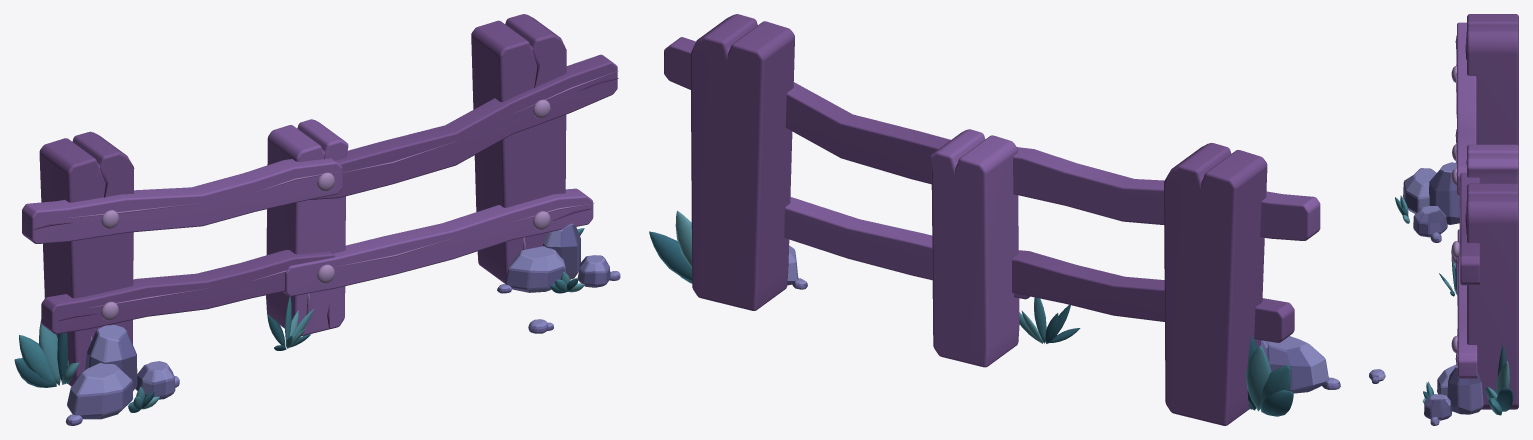
Rendered from fence_set_no_pumpkin.glb.
3 renders of one model, left to right at view 1: azimuth 30°, elevation 25°; view 2: azimuth 150°, elevation 25°; view 3: azimuth 270°, elevation 25°, orthographic. The views are drawn at different scales.
Parts seen in each view (by area): view 1: Hewn_Post_3.001, Upper_Rail_Left.001, Upper_Rail_Right.001, Hewn_Post_1.001, Lower_Rail_Right.001, Lower_Rail_Left.001, Hewn_Post_2.001, Front_Faceted_Boulder.001, Front_Faceted_Boulder.002, Rear_Standing_Slate.001, Rear_Standing_Slate.002, Right_Low_Boulder.001 (+3 smaller); view 2: Hewn_Post_3.001, Hewn_Post_1.001, Hewn_Post_2.001, Upper_Rail_Left.001, Upper_Rail_Right.001, Lower_Rail_Left.001, Lower_Rail_Right.001, Front_Faceted_Boulder.001, Right_Fence_Foliage_Leaf_6, Left_Fence_Foliage_Leaf_3, Left_Fence_Foliage_Leaf_2, Left_Fence_Foliage_Leaf_1 (+1 smaller); view 3: Hewn_Post_3.001, Hewn_Post_1.001, Upper_Rail_Left.001, Hewn_Post_2.001, Lower_Rail_Right.001, Upper_Rail_Right.001, Rear_Standing_Slate.001, Rear_Standing_Slate.002, Front_Faceted_Boulder.001, Right_Low_Boulder.001, Right_Low_Boulder.002, Front_Faceted_Boulder.002 (+3 smaller).
Part boxes in pixels (bbox=[...]): Hewn_Post_3.001: bbox=[471, 14, 566, 283]; Upper_Rail_Left.001: bbox=[22, 158, 342, 243]; Upper_Rail_Right.001: bbox=[310, 54, 617, 199]; Hewn_Post_1.001: bbox=[39, 131, 134, 386]; Lower_Rail_Right.001: bbox=[283, 188, 593, 296]; Lower_Rail_Left.001: bbox=[41, 250, 335, 334]; Hewn_Post_2.001: bbox=[266, 119, 348, 336]; Front_Faceted_Boulder.001: bbox=[67, 362, 132, 419]; Front_Faceted_Boulder.002: bbox=[505, 246, 565, 292]; Rear_Standing_Slate.001: bbox=[85, 325, 137, 390]; Rear_Standing_Slate.002: bbox=[543, 223, 580, 279]; Right_Low_Boulder.001: bbox=[135, 361, 175, 399]; Hewn_Post_3.001: bbox=[690, 14, 794, 310]; Hewn_Post_1.001: bbox=[1164, 143, 1267, 425]; Hewn_Post_2.001: bbox=[929, 129, 1019, 367]; Upper_Rail_Left.001: bbox=[1013, 147, 1320, 240]; Upper_Rail_Right.001: bbox=[664, 37, 950, 184]; Lower_Rail_Left.001: bbox=[1011, 250, 1294, 342]; Lower_Rail_Right.001: bbox=[784, 197, 1029, 299]; Front_Faceted_Boulder.001: bbox=[1269, 336, 1328, 393]; Right_Fence_Foliage_Leaf_6: bbox=[649, 231, 692, 281]; Left_Fence_Foliage_Leaf_3: bbox=[1245, 345, 1271, 411]; Left_Fence_Foliage_Leaf_2: bbox=[1260, 365, 1290, 412]; Left_Fence_Foliage_Leaf_1: bbox=[1261, 390, 1293, 416]; Hewn_Post_3.001: bbox=[1467, 183, 1518, 409]; Hewn_Post_1.001: bbox=[1467, 14, 1518, 146]; Upper_Rail_Left.001: bbox=[1457, 22, 1476, 195]; Hewn_Post_2.001: bbox=[1467, 144, 1518, 185]; Lower_Rail_Right.001: bbox=[1457, 229, 1477, 378]; Upper_Rail_Right.001: bbox=[1460, 172, 1479, 285]; Rear_Standing_Slate.001: bbox=[1429, 162, 1459, 224]; Rear_Standing_Slate.002: bbox=[1447, 366, 1483, 414]; Front_Faceted_Boulder.001: bbox=[1403, 168, 1436, 213]; Right_Low_Boulder.001: bbox=[1413, 206, 1447, 237]; Right_Low_Boulder.002: bbox=[1424, 394, 1452, 420]; Front_Faceted_Boulder.002: bbox=[1437, 364, 1457, 396].
Size of the model in its own units: 5.18 by 2.03 by 1.34.
